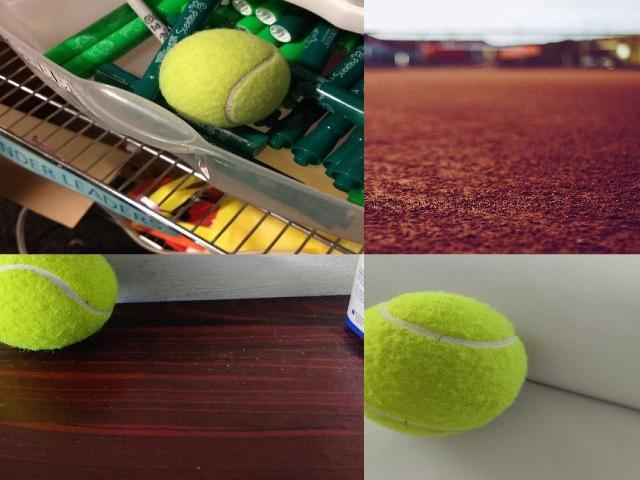tennis-ball: (364, 290, 530, 438), (156, 28, 294, 128), (0, 254, 119, 351)
